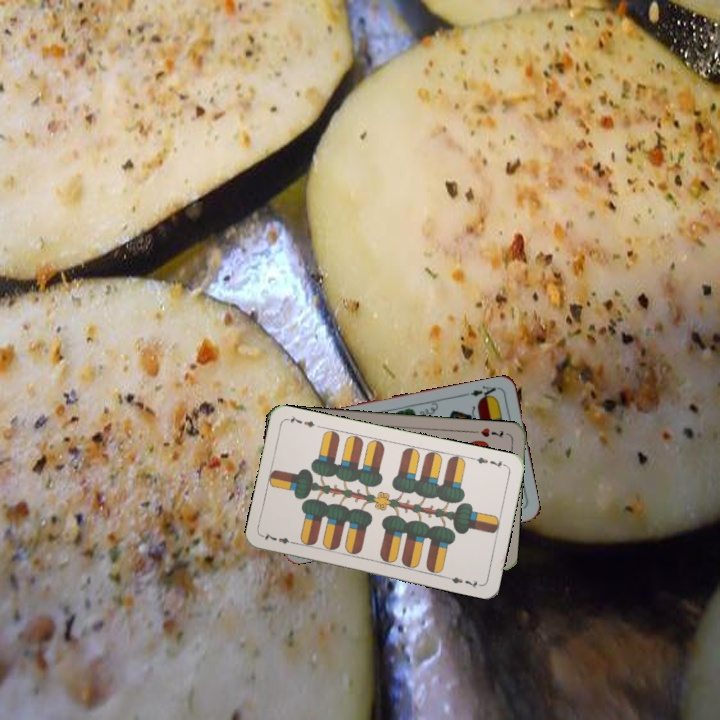E7: (259, 529, 299, 547), (468, 453, 509, 470)
EA: (461, 382, 501, 403)
H7: (477, 424, 506, 440)
